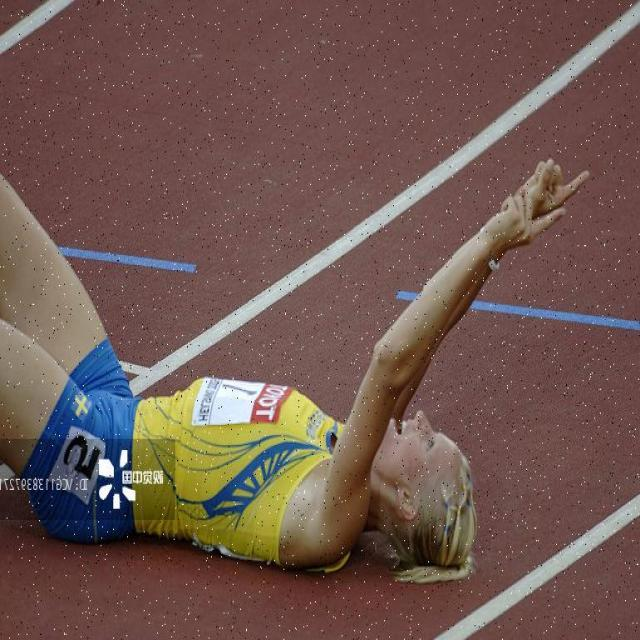fall: (1, 169, 562, 545)
